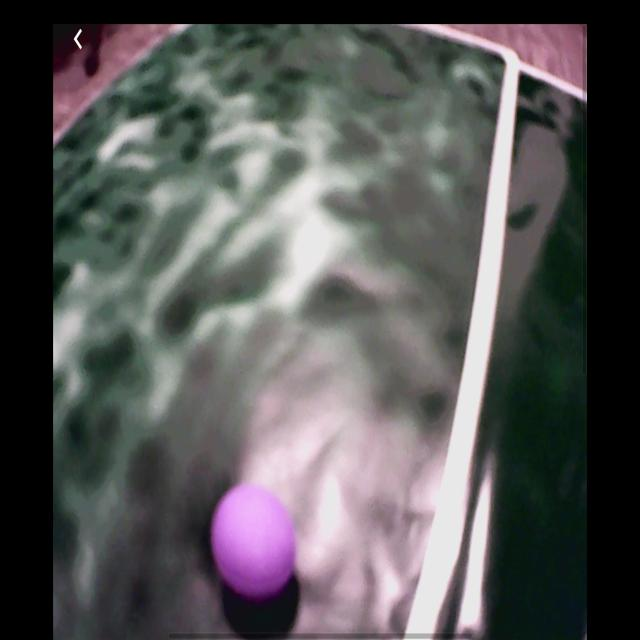ball: (211, 485, 296, 609)
